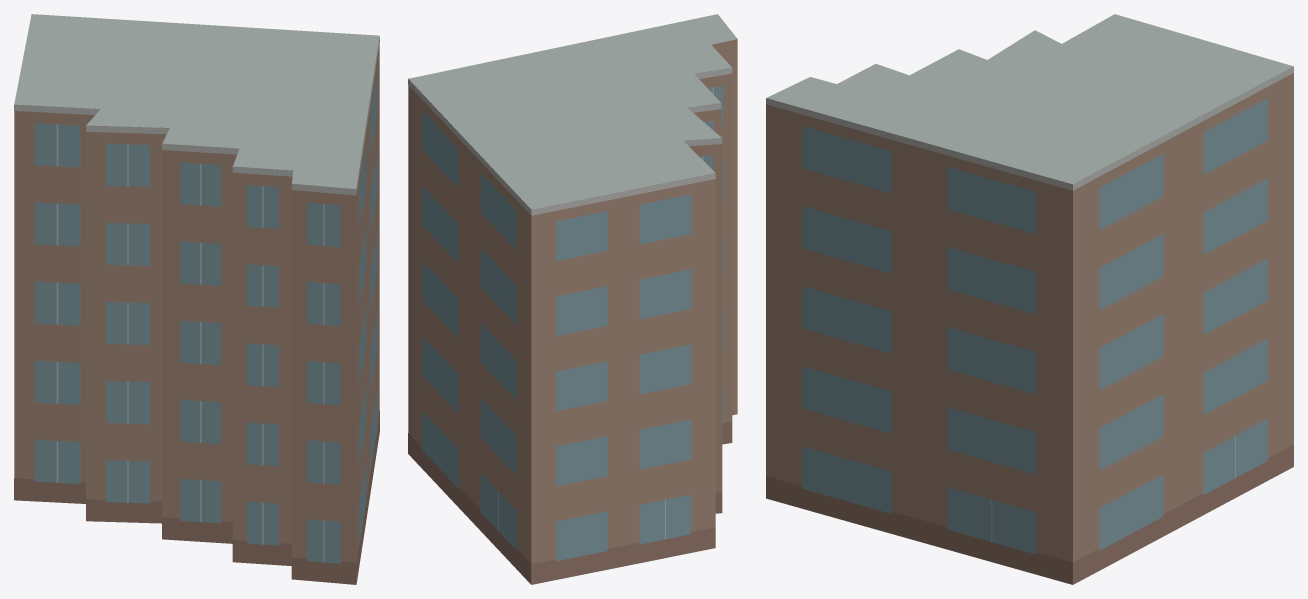
The model's file is survey-upis-32731068.glb.
3 views of the same model, side by side, from view 1: azimuth 30°, elevation 25°; view 2: azimuth 150°, elevation 25°; view 3: azimuth 270°, elevation 25° (orthographic). The views are drawn at different scales.
Parts seen in each view (by area): view 1: survey-upis-32731068.tmp; view 2: survey-upis-32731068.tmp; view 3: survey-upis-32731068.tmp.
Boxes of the visible parts, left/top/right/bottom form: survey-upis-32731068.tmp: left=14, top=14, right=379, bottom=584; survey-upis-32731068.tmp: left=408, top=14, right=737, bottom=584; survey-upis-32731068.tmp: left=766, top=14, right=1293, bottom=584.
Size of the model in its own units: 13.92 by 15.25 by 18.22.
